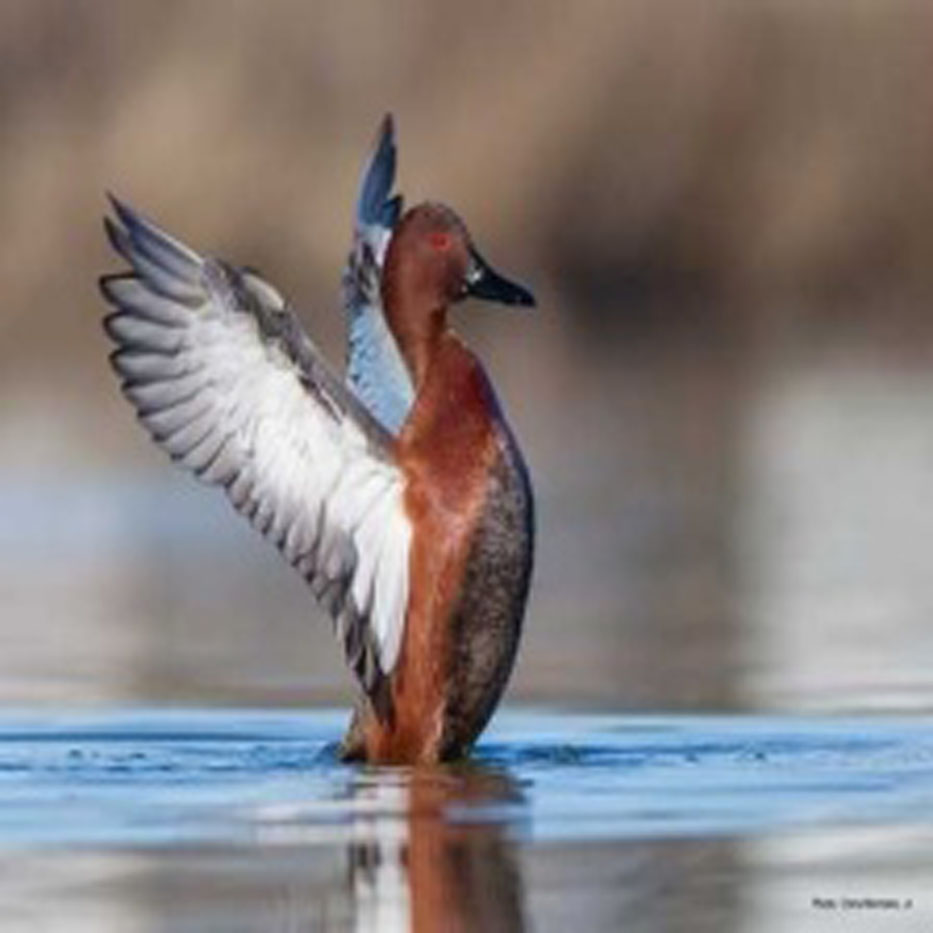Mencari Makan di Lumpur: (466, 267, 544, 314)
